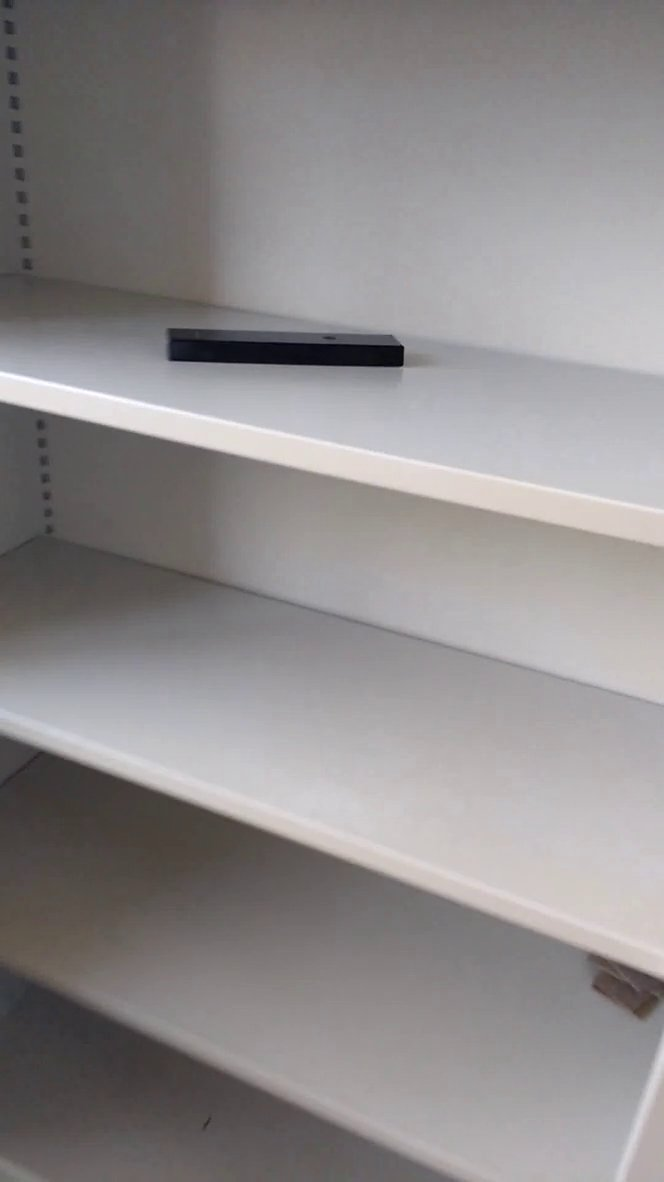remote: (160, 313, 409, 383)
